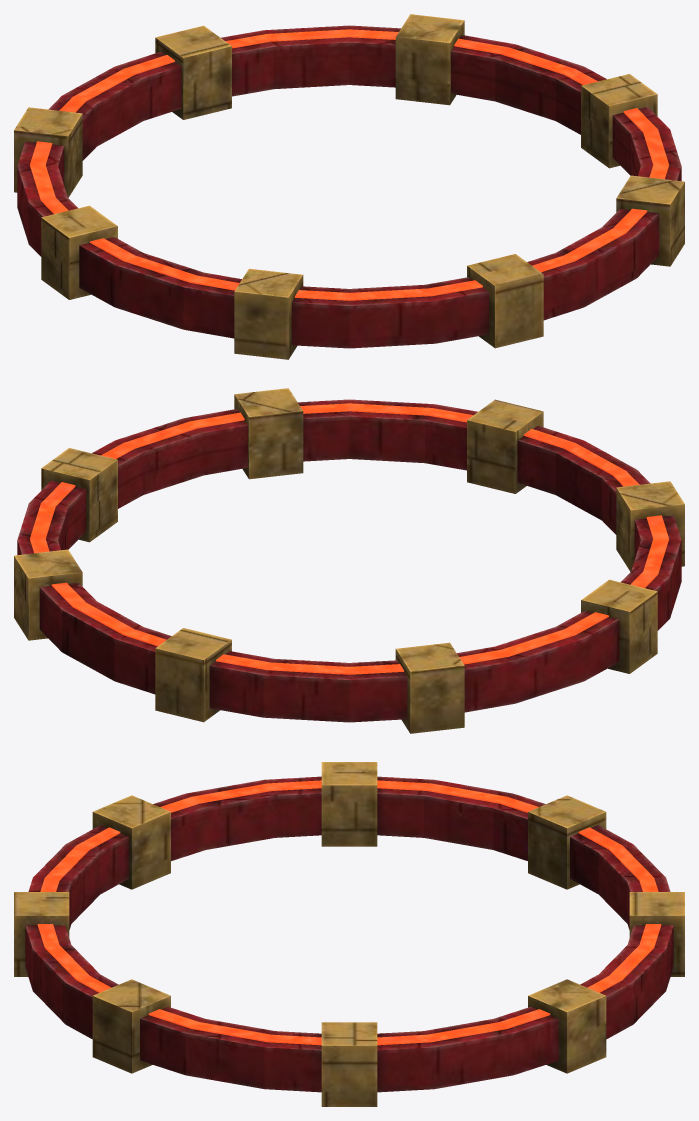
File: k_ring_e.glb
3 renders of one model, top to bottom at view 1: azimuth 30°, elevation 25°; view 2: azimuth 150°, elevation 25°; view 3: azimuth 270°, elevation 25°, orthographic.
Visible parts, largest first — view 1: k_ring_e; view 2: k_ring_e; view 3: k_ring_e.
Part boxes in pixels (x1,y1,x2,y2): k_ring_e: (14,14,684,359); k_ring_e: (14,388,684,733); k_ring_e: (14,762,684,1106).
Size of the model in its own units: 4.36 by 0.44 by 4.36.
Materials: 1 (1 with a texture image).
